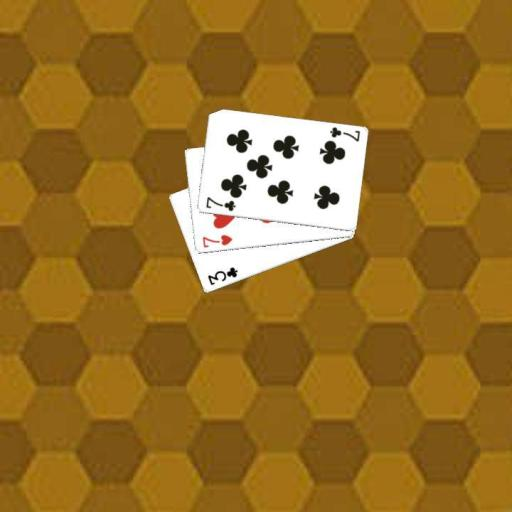3C: (204, 264, 239, 287)
7C: (327, 124, 362, 143), (203, 194, 237, 213)
7H: (199, 232, 234, 249)
